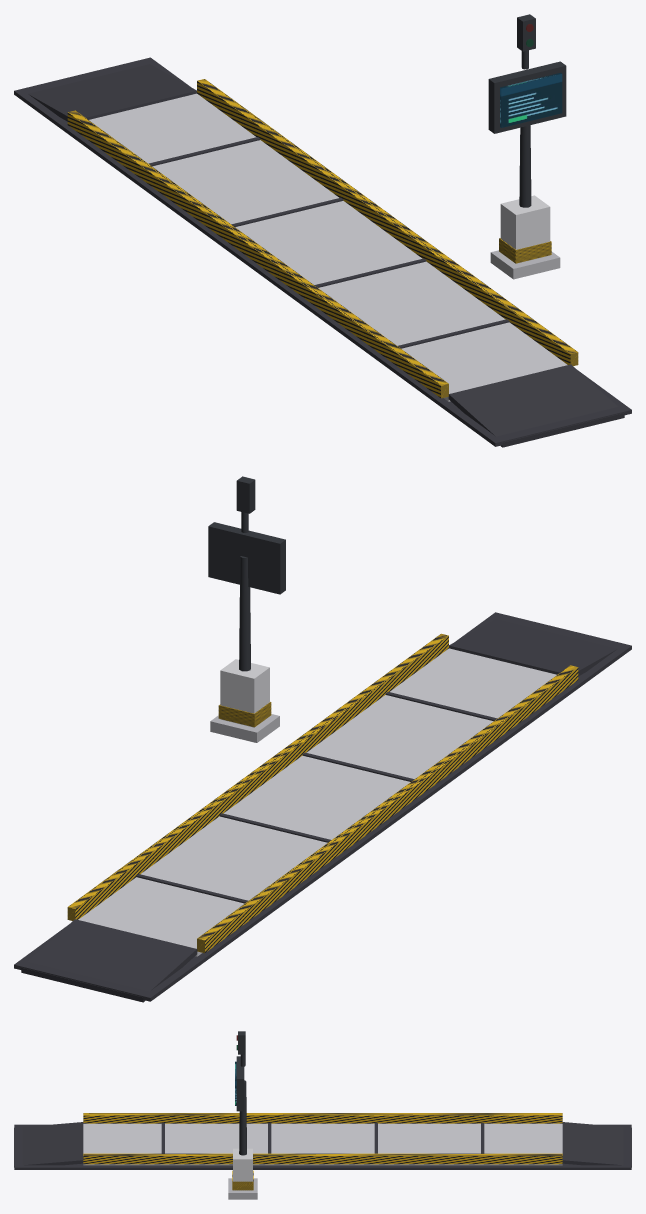
The model's file is balanca.glb.
The picture shows the model from 3 angles, top to bottom: view 1: azimuth 30°, elevation 25°; view 2: azimuth 150°, elevation 25°; view 3: azimuth 270°, elevation 25°; orthographic projection. The views are drawn at different scales.
Parts seen in each view (by area): view 1: object 2, object 1, object 3, object 6, object 7, object 5, object 4; view 2: object 2, object 1, object 3, object 6, object 5, object 4; view 3: object 2, object 3, object 1, object 6, object 5, object 4.
Part boxes in pixels (bbox=[...]): object 2: bbox=[89, 93, 567, 401]; object 1: bbox=[14, 57, 631, 447]; object 3: bbox=[67, 79, 578, 398]; object 6: bbox=[488, 14, 566, 207]; object 7: bbox=[500, 72, 562, 127]; object 5: bbox=[500, 195, 550, 263]; object 4: bbox=[490, 250, 560, 279]; object 2: bbox=[78, 648, 556, 956]; object 1: bbox=[14, 612, 631, 1002]; object 3: bbox=[67, 633, 578, 953]; object 6: bbox=[208, 476, 285, 671]; object 5: bbox=[220, 659, 269, 727]; object 4: bbox=[210, 714, 279, 742]; object 2: bbox=[83, 1123, 562, 1165]; object 3: bbox=[83, 1113, 562, 1190]; object 1: bbox=[14, 1122, 631, 1169]; object 6: bbox=[236, 1031, 246, 1155]; object 5: bbox=[233, 1148, 252, 1190]; object 4: bbox=[228, 1178, 257, 1199].
Bounding box in the file's own units: 6.81 × 6.67 × 23.21.
9 materials, 2 textured.
